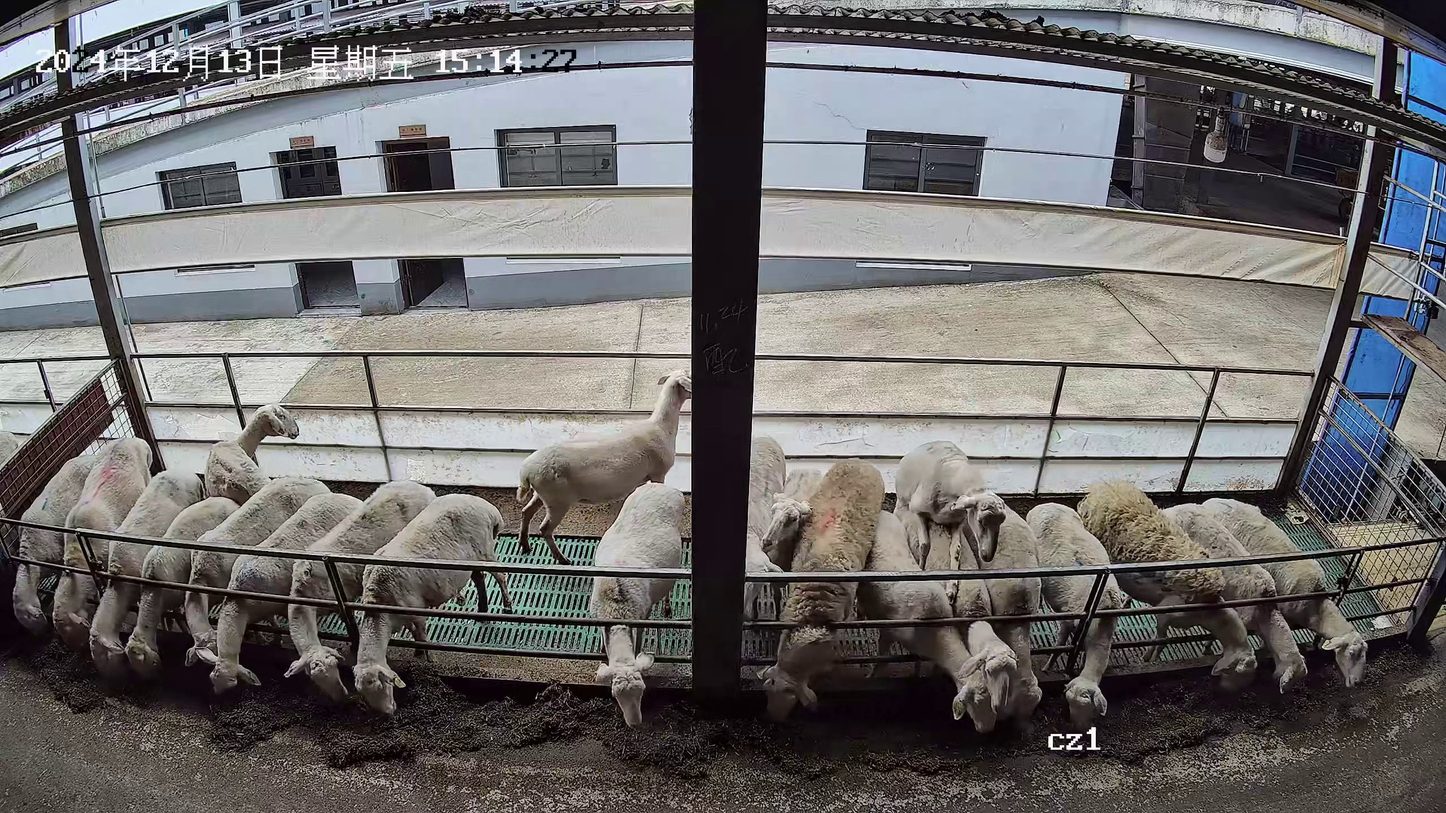Nmounting: (891, 435, 1009, 720)
